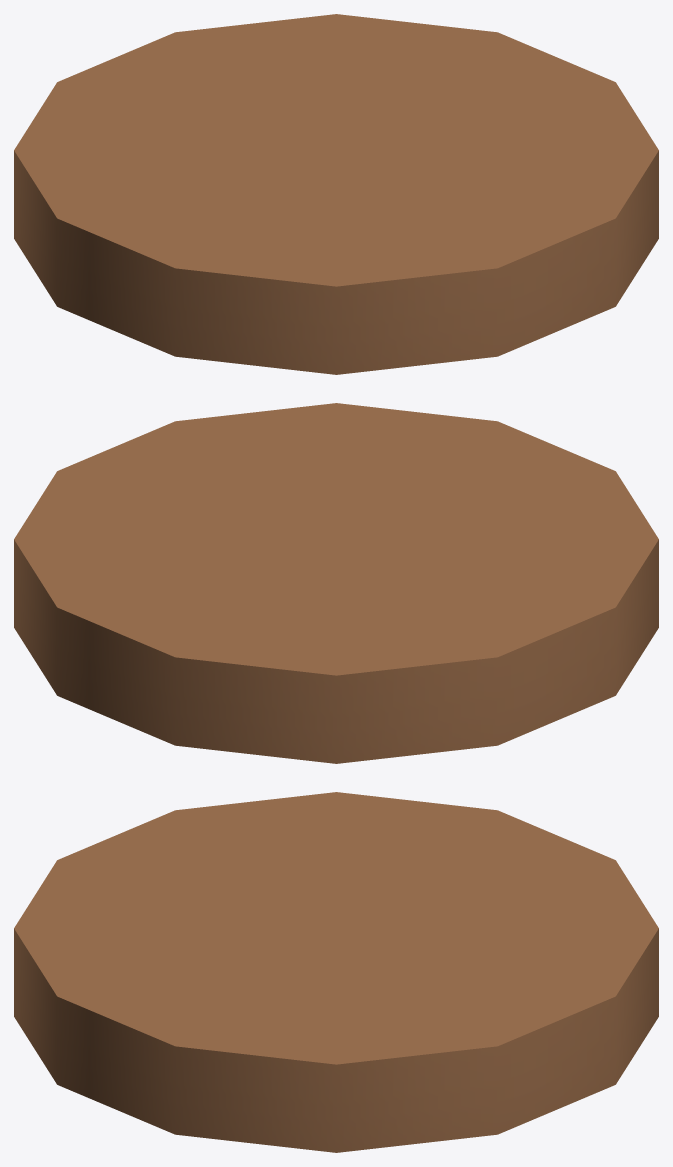
File: JarLid1.fbx
3 views of the same model, one above another, from view 1: azimuth 30°, elevation 25°; view 2: azimuth 150°, elevation 25°; view 3: azimuth 270°, elevation 25° (orthographic).
Parts seen in each view (by area): view 1: JarLid1; view 2: JarLid1; view 3: JarLid1.
Boxes of the visible parts, <box> form: JarLid1: <box>14,14,658,374</box>; JarLid1: <box>14,403,658,763</box>; JarLid1: <box>14,792,658,1152</box>.
Size of the model in its own units: 7.29 by 1.1 by 7.29.
